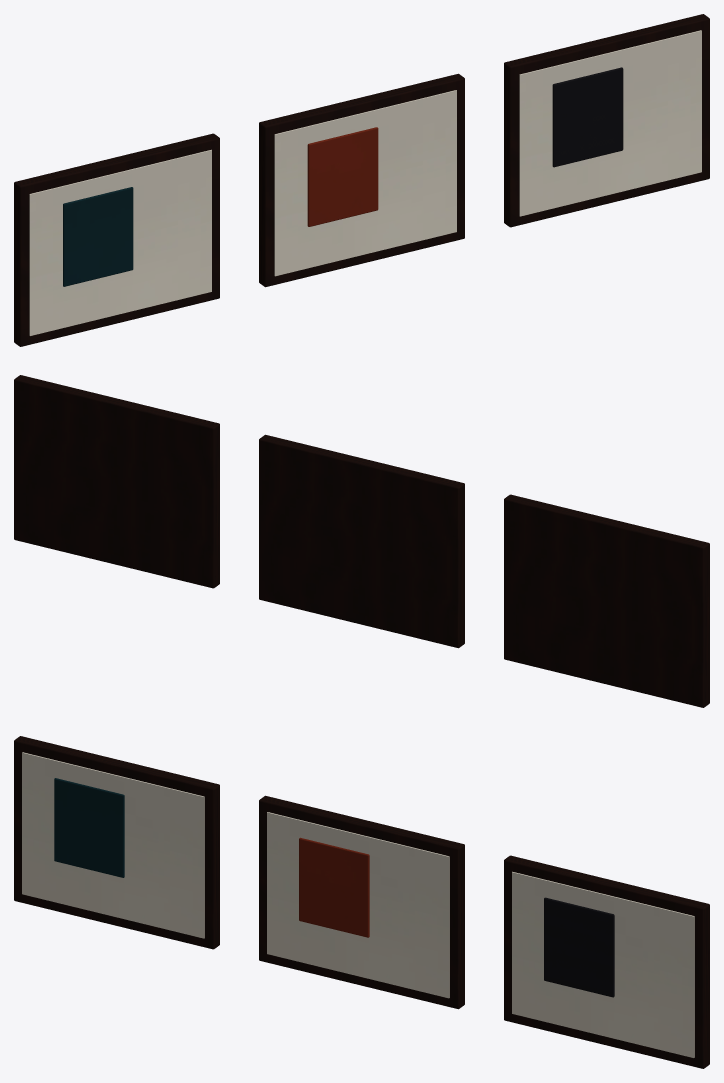
Rendered from razoredge-modern-wall-art.glb.
3 views of the same model, one above another, from view 1: azimuth 30°, elevation 25°; view 2: azimuth 150°, elevation 25°; view 3: azimuth 330°, elevation 25° (orthographic).
Parts seen in each view (by area): view 1: canvas_0, canvas_2, canvas_1, frame_0, frame_2, frame_1, bar_2, bar_1, bar_0; view 2: frame_0, frame_2, frame_1; view 3: canvas_0, canvas_1, canvas_2, frame_0, frame_2, frame_1, bar_2, bar_1, bar_0.
Part boxes in pixels (x1=…): canvas_0: x1=29, y1=149, x2=211, y2=335; canvas_2: x1=519, y1=30, x2=701, y2=216; canvas_1: x1=274, y1=90, x2=456, y2=276; frame_0: x1=14, y1=133, x2=219, y2=346; frame_2: x1=504, y1=14, x2=709, y2=227; frame_1: x1=259, y1=73, x2=464, y2=287; bar_2: x1=552, y1=67, x2=623, y2=167; bar_1: x1=307, y1=127, x2=378, y2=226; bar_0: x1=63, y1=187, x2=133, y2=286; frame_0: x1=504, y1=494, x2=709, y2=707; frame_2: x1=14, y1=375, x2=219, y2=588; frame_1: x1=259, y1=434, x2=464, y2=648; canvas_0: x1=22, y1=752, x2=204, y2=938; canvas_1: x1=267, y1=812, x2=449, y2=998; canvas_2: x1=512, y1=871, x2=694, y2=1057; frame_0: x1=14, y1=736, x2=219, y2=949; frame_2: x1=504, y1=855, x2=709, y2=1068; frame_1: x1=259, y1=795, x2=464, y2=1009; bar_2: x1=544, y1=897, x2=614, y2=997; bar_1: x1=299, y1=837, x2=369, y2=937; bar_0: x1=54, y1=778, x2=124, y2=877.
Bounding box in the file's own units: 2.96 × 0.66 × 0.062.
5 materials, 5 textured.
